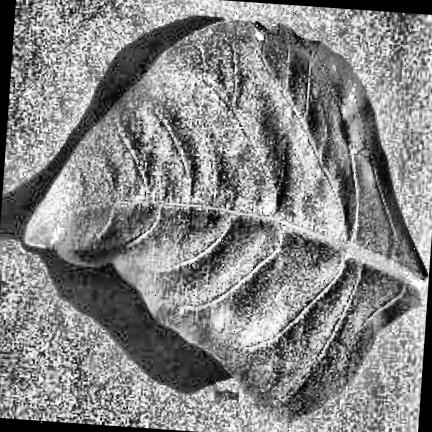leaf: (23, 20, 427, 420)
